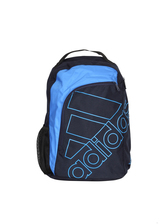bag: (27, 44, 143, 187)
